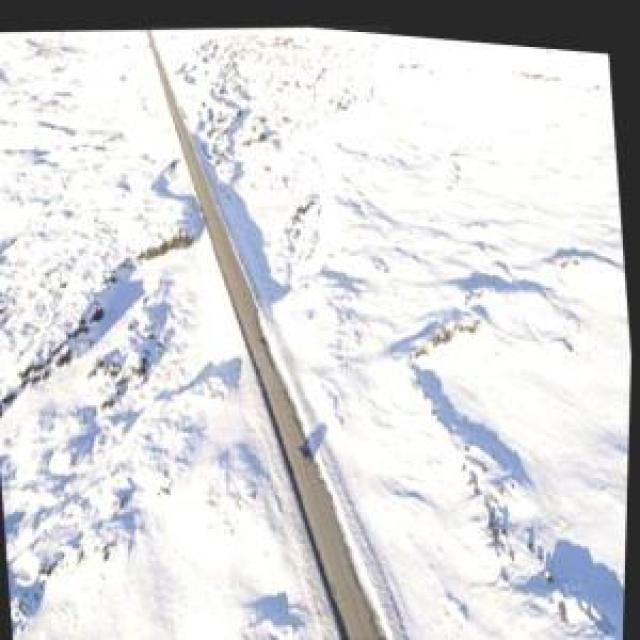clear-road: (146, 27, 390, 640)
